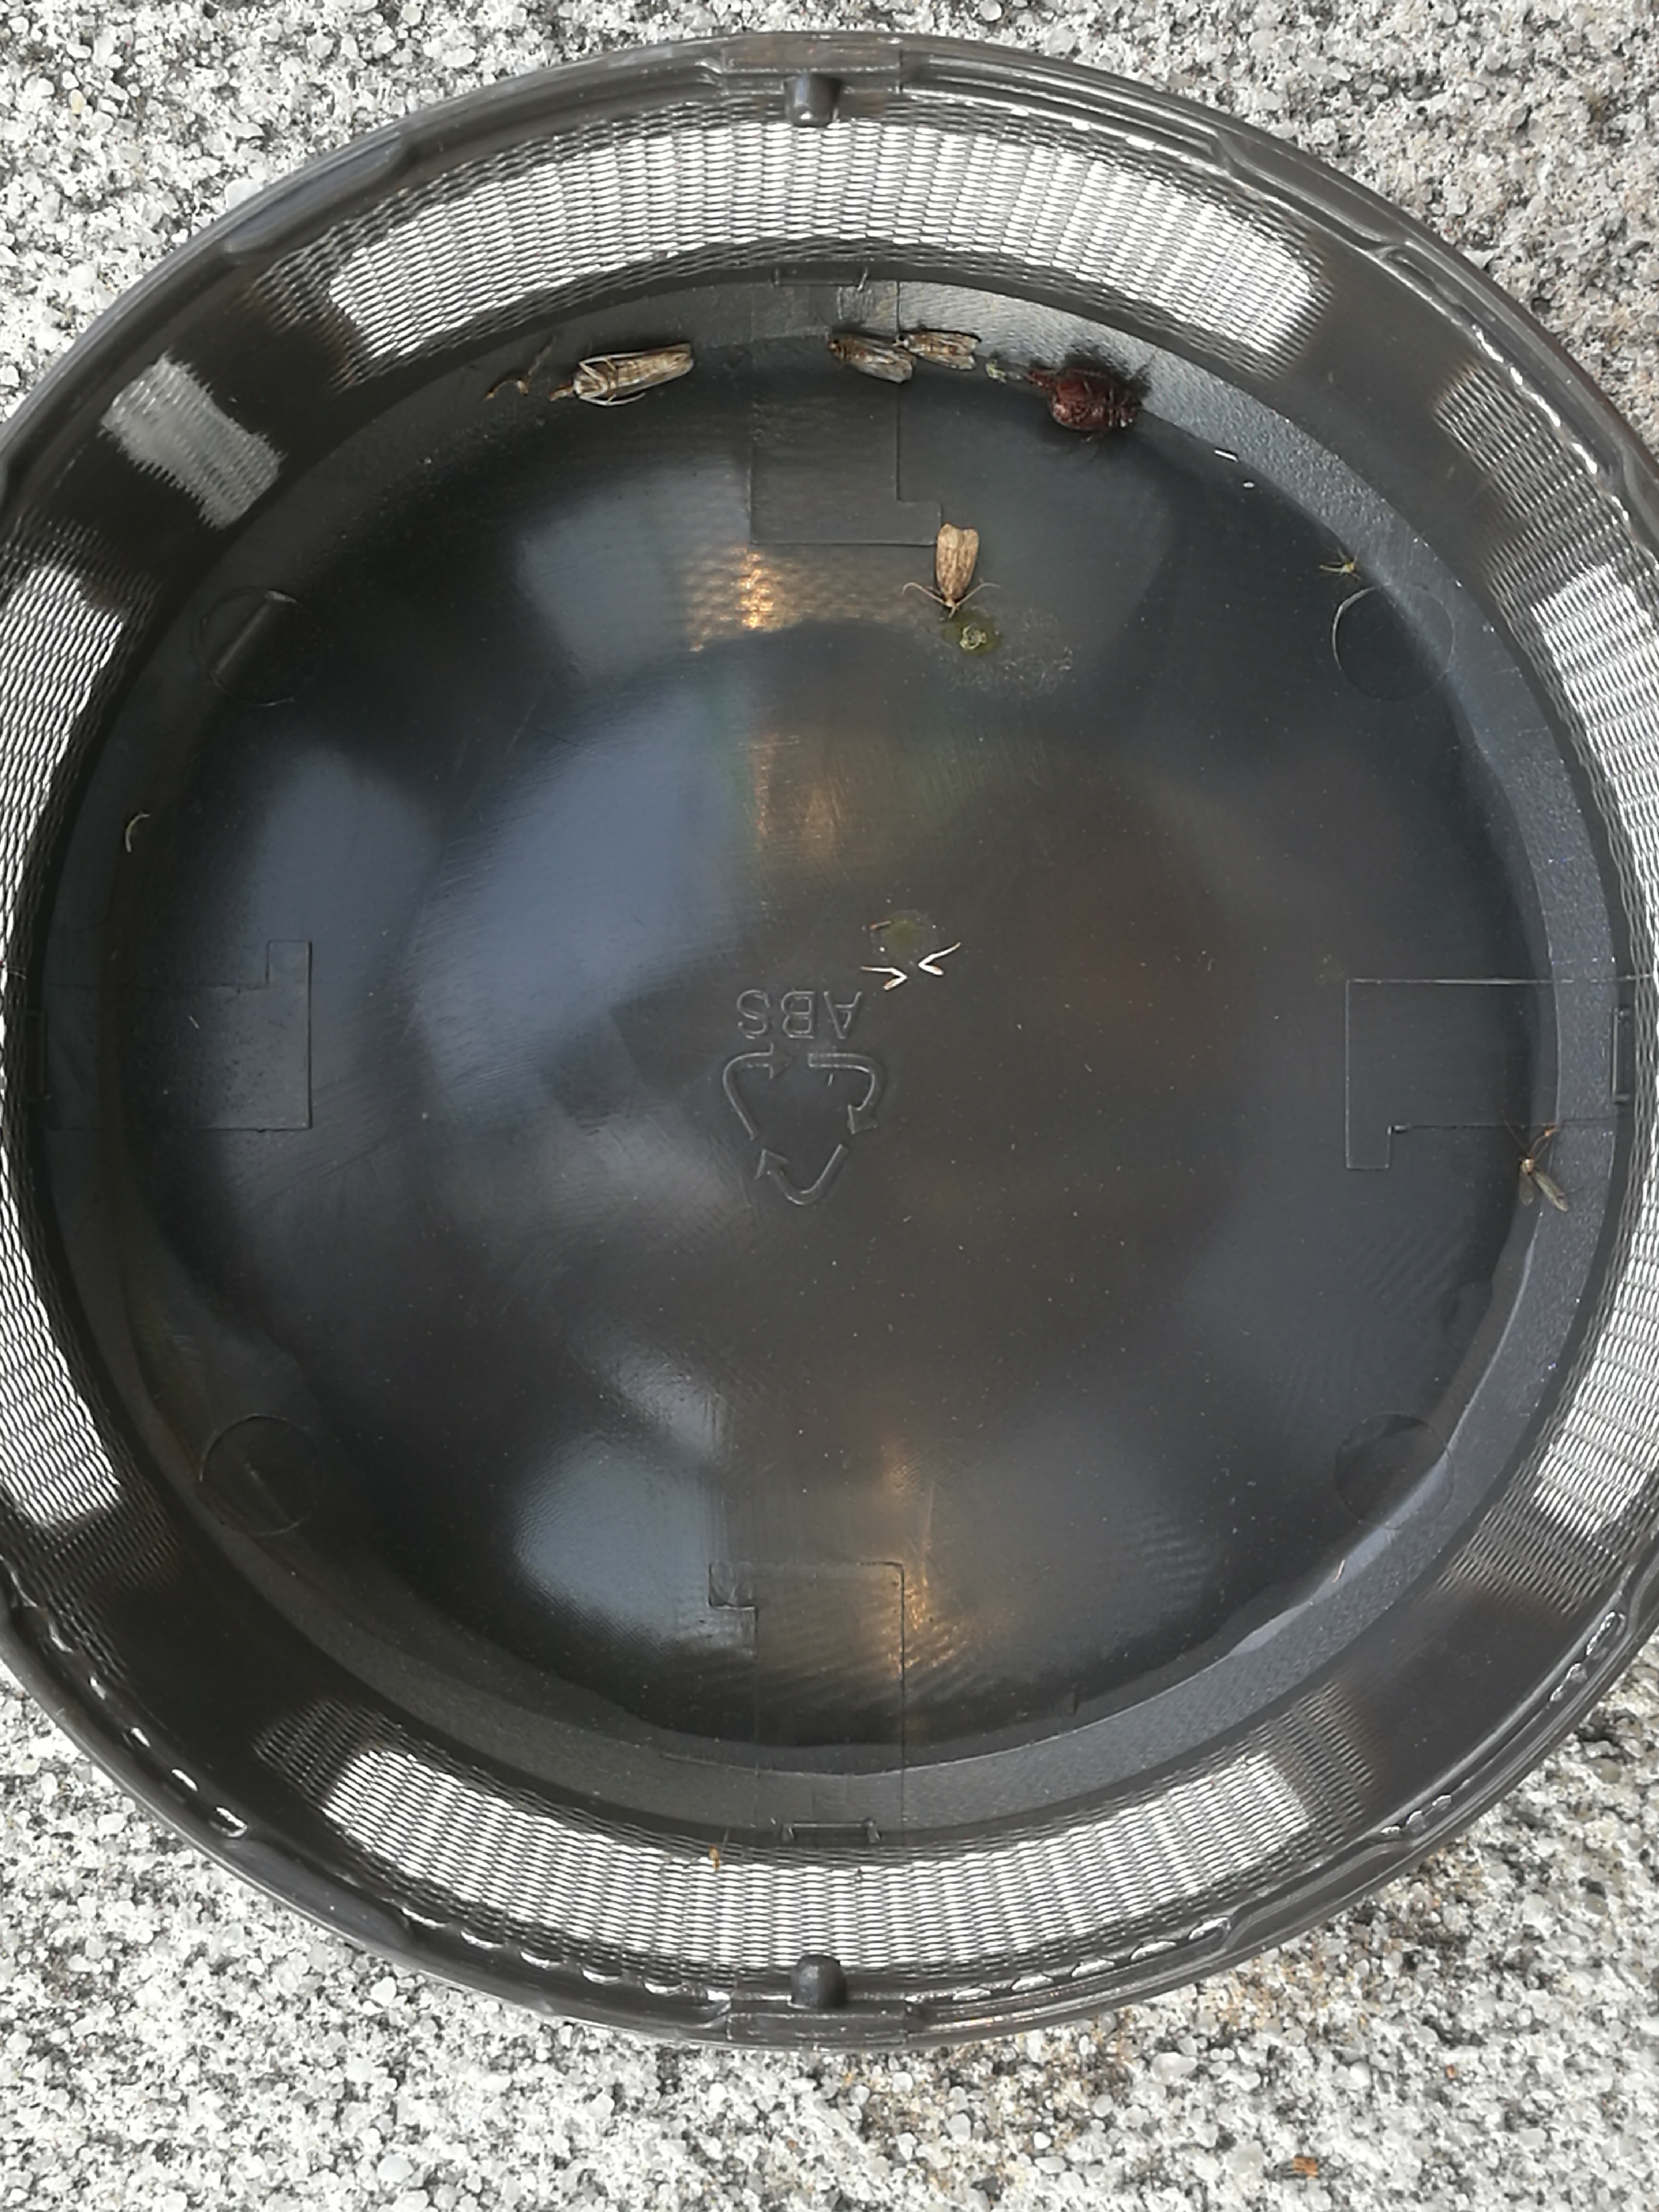beetle: (1049, 369, 1140, 430)
mosquito: (572, 345, 694, 399), (829, 336, 911, 383), (899, 329, 979, 369)
moth: (936, 526, 976, 606)
